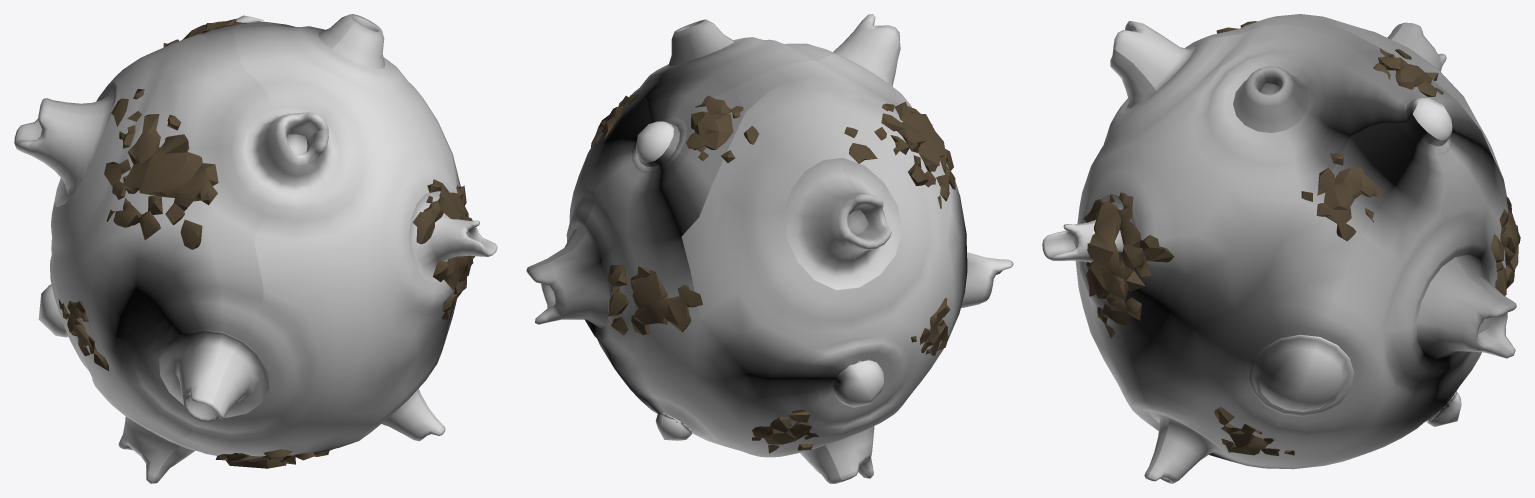
File: p_mesh_gaspotato01_medium_pose0.fbx
3 renders of one model, left to right at view 1: azimuth 30°, elevation 25°; view 2: azimuth 150°, elevation 25°; view 3: azimuth 270°, elevation 25°, orthographic. The views are drawn at different scales.
Parts seen in each view (by area): view 1: p_mesh_gaspotato02_pose0; view 2: p_mesh_gaspotato02_pose0; view 3: p_mesh_gaspotato02_pose0.
Part boxes in pixels (bbox=[...]): p_mesh_gaspotato02_pose0: bbox=[14, 14, 497, 483]; p_mesh_gaspotato02_pose0: bbox=[526, 14, 1013, 483]; p_mesh_gaspotato02_pose0: bbox=[1042, 14, 1520, 483].
Size of the model in its own units: 37.4 by 40.64 by 39.45.
